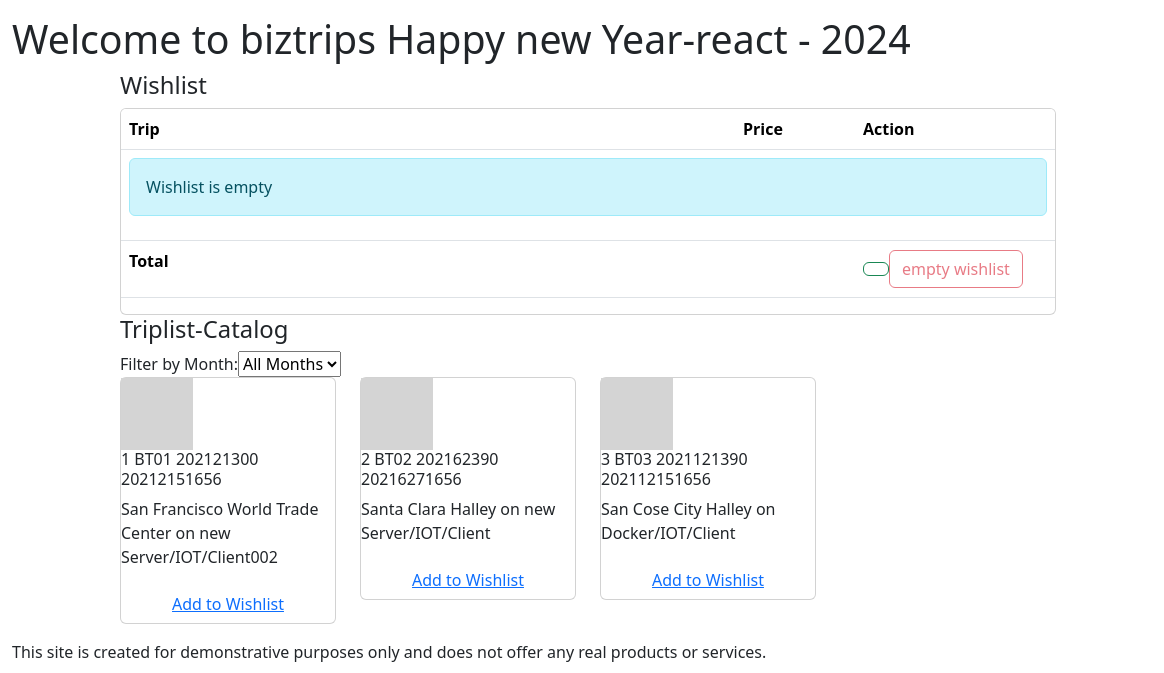
Test: BizTrip E2E Tests › E2E-02: should delete a trip from wishlist
(page scrolled)
Check: the heading "Welcome to biztrips" is shown, box [12,12,911,66]
Click the button with class "btn-outline" below "BT01": (228, 604) [109,585,347,623]
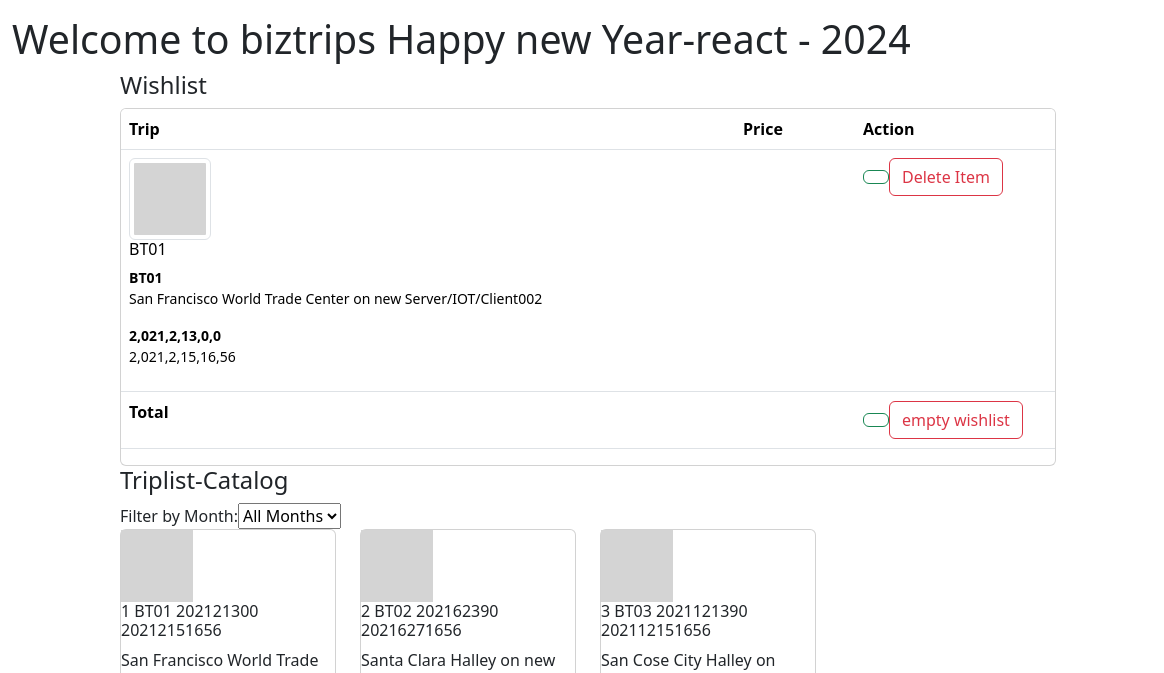
Check: the button "Delete Item" is shown
Click the button "Delete Item": (946, 177) [889,158,1003,196]
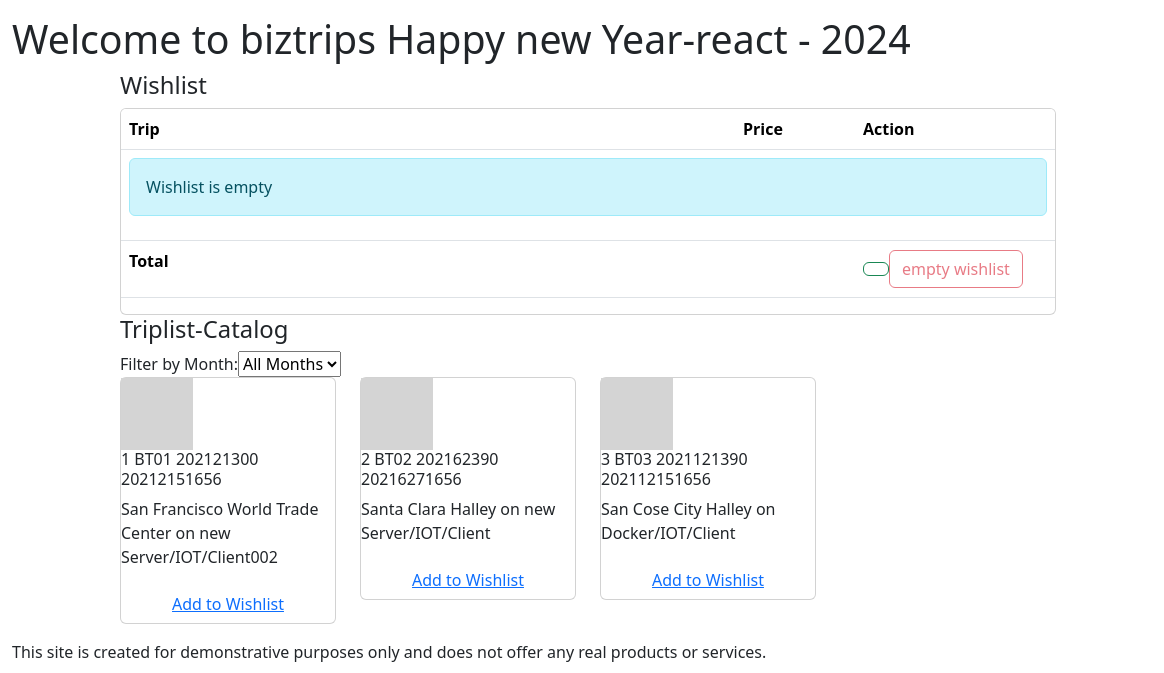
Check: the text "Wishlist is empty" is shown, box [129,158,1047,216]
